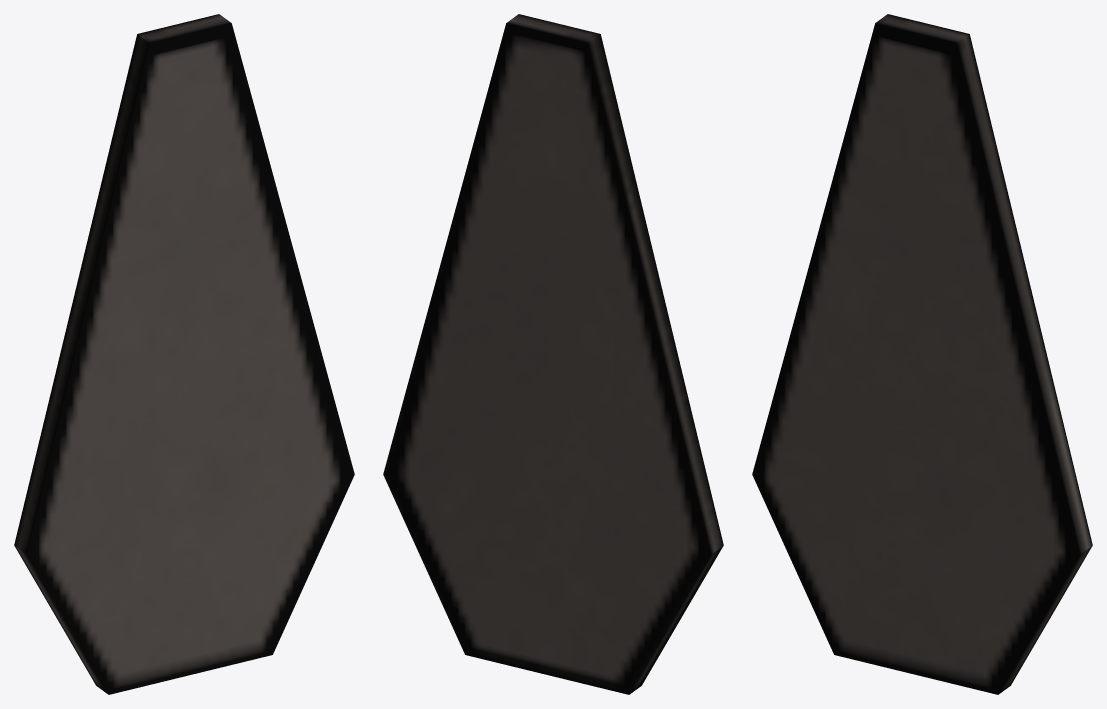
The model's file is PictureFrameStand.fbx.
3 renders of one model, left to right at view 1: azimuth 30°, elevation 25°; view 2: azimuth 150°, elevation 25°; view 3: azimuth 330°, elevation 25°, orthographic.
Visible parts, largest first — view 1: PictureFrame(Stand); view 2: PictureFrame(Stand); view 3: PictureFrame(Stand).
Boxes of the visible parts, box(x1,y1,x2,y2) form: PictureFrame(Stand): box(14, 14, 354, 694); PictureFrame(Stand): box(383, 14, 723, 694); PictureFrame(Stand): box(752, 14, 1092, 694).
Bounding box in the file's own units: 15.05 × 28.12 × 1.
